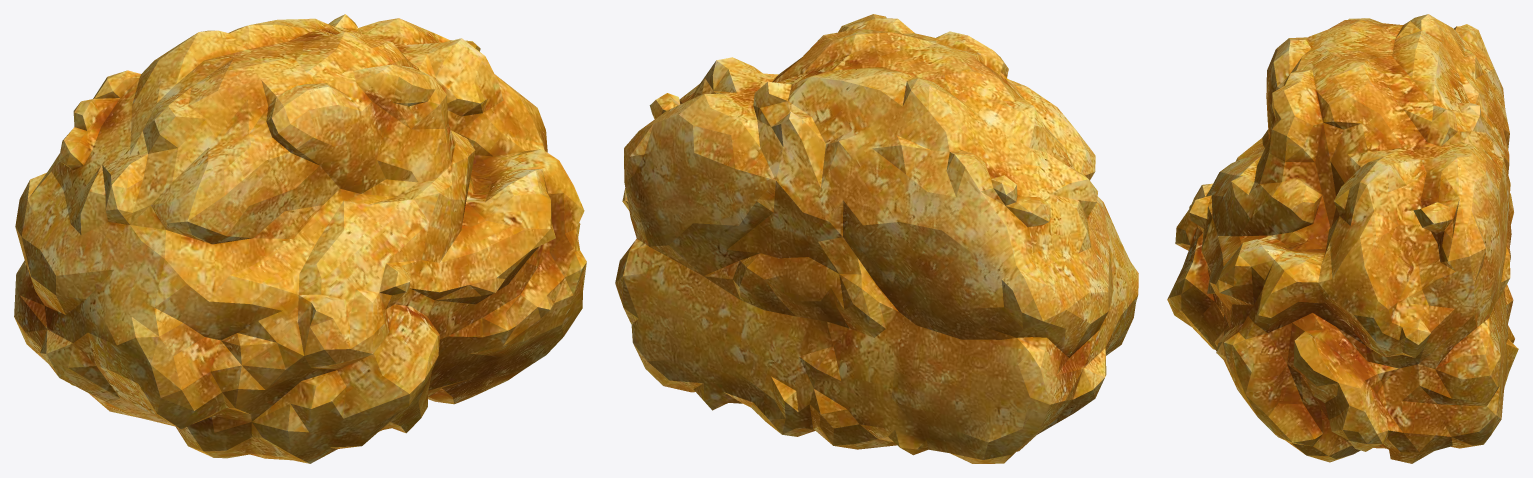
The model's file is からあげ1ps.glb.
The picture shows the model from 3 angles, left to right: view 1: azimuth 30°, elevation 25°; view 2: azimuth 150°, elevation 25°; view 3: azimuth 270°, elevation 25°; orthographic projection. The views are drawn at different scales.
Visible parts, largest first — view 1: Mesh; view 2: Mesh; view 3: Mesh.
Boxes of the visible parts, x1,y1,x2,y2 form: Mesh: (14, 14, 586, 463); Mesh: (615, 14, 1138, 463); Mesh: (1167, 14, 1518, 463).
Bounding box in the file's own units: 1.69 × 1.27 × 1.14.
1 material, 1 textured.
